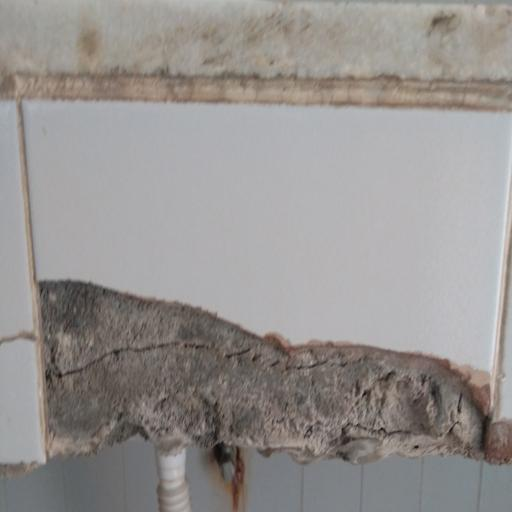spalling: (22, 228, 512, 472)
